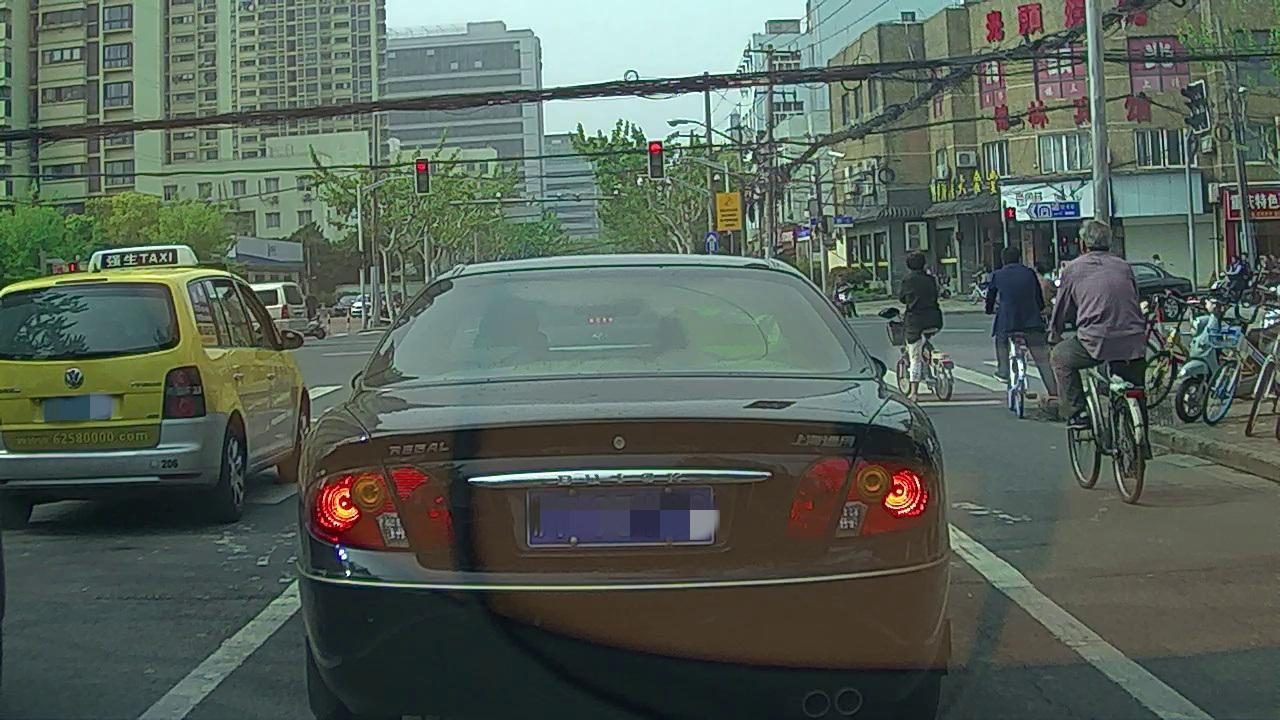traffic_light: (649, 142, 664, 178), (416, 157, 429, 195)
